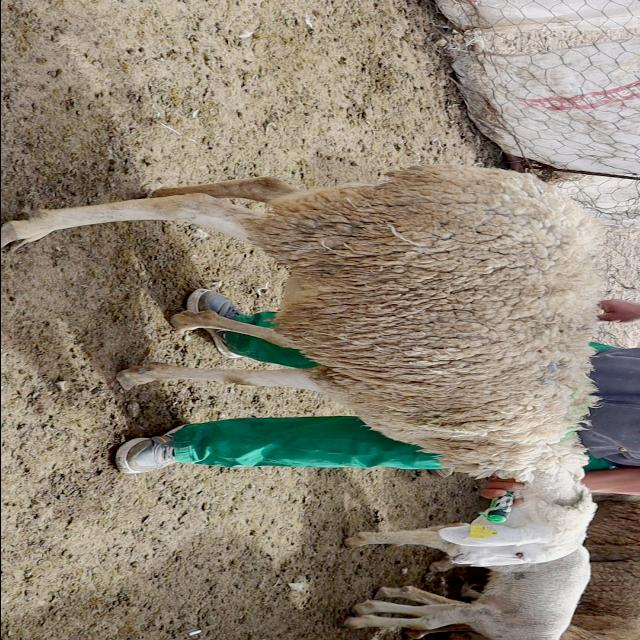Score_2: (1, 165, 603, 566)
